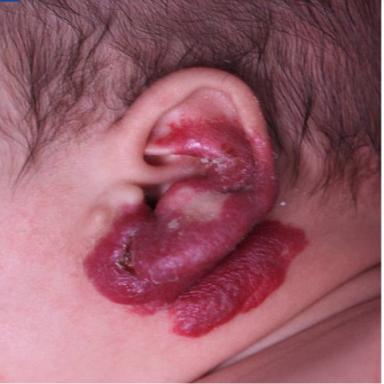Hemangiome: (81, 120, 306, 337)
